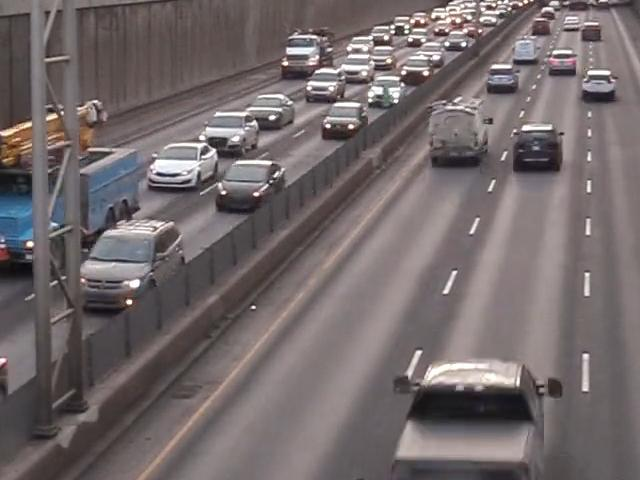car: (75, 222, 190, 320), (213, 157, 295, 220), (505, 112, 577, 172), (150, 142, 217, 192), (202, 111, 262, 153), (242, 92, 297, 130), (320, 100, 371, 139), (304, 69, 347, 103), (364, 77, 407, 110), (579, 69, 618, 103), (399, 53, 440, 83), (409, 42, 447, 69), (486, 63, 520, 93), (340, 53, 375, 82), (547, 48, 579, 76), (346, 36, 378, 62), (367, 44, 397, 70), (512, 39, 540, 65), (443, 33, 475, 53)
pickup-truck: (393, 356, 563, 480)
truck: (0, 103, 152, 274), (430, 95, 497, 170), (282, 32, 334, 78)
